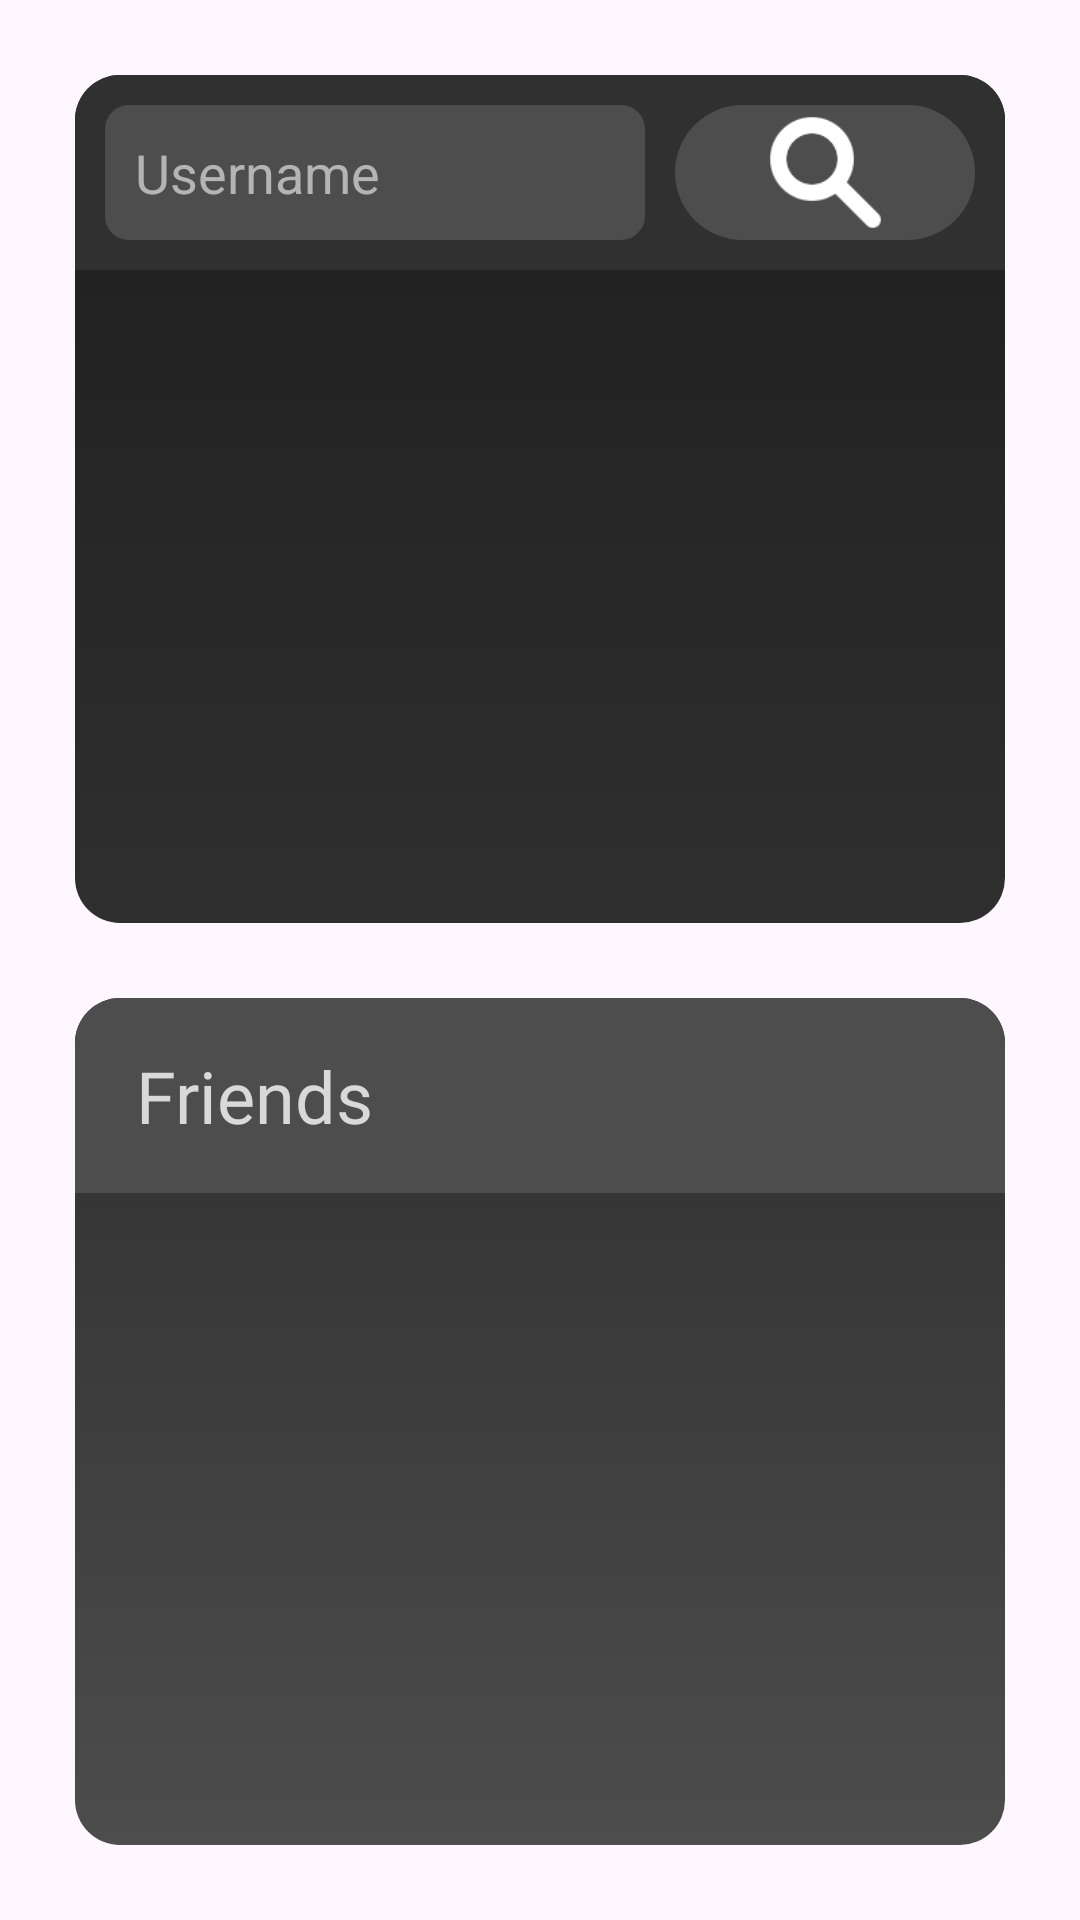

Screen size 1080w x 1920h. Icon name, then its center in pixels as (x=x, y=y):
search: (x=825, y=172)
